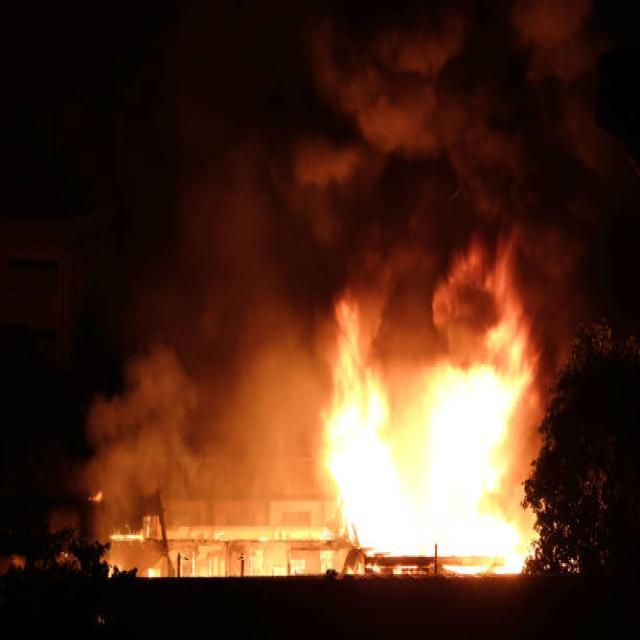Fire: (336, 362, 512, 580)
Smoke: (293, 0, 611, 345), (153, 247, 353, 558)
